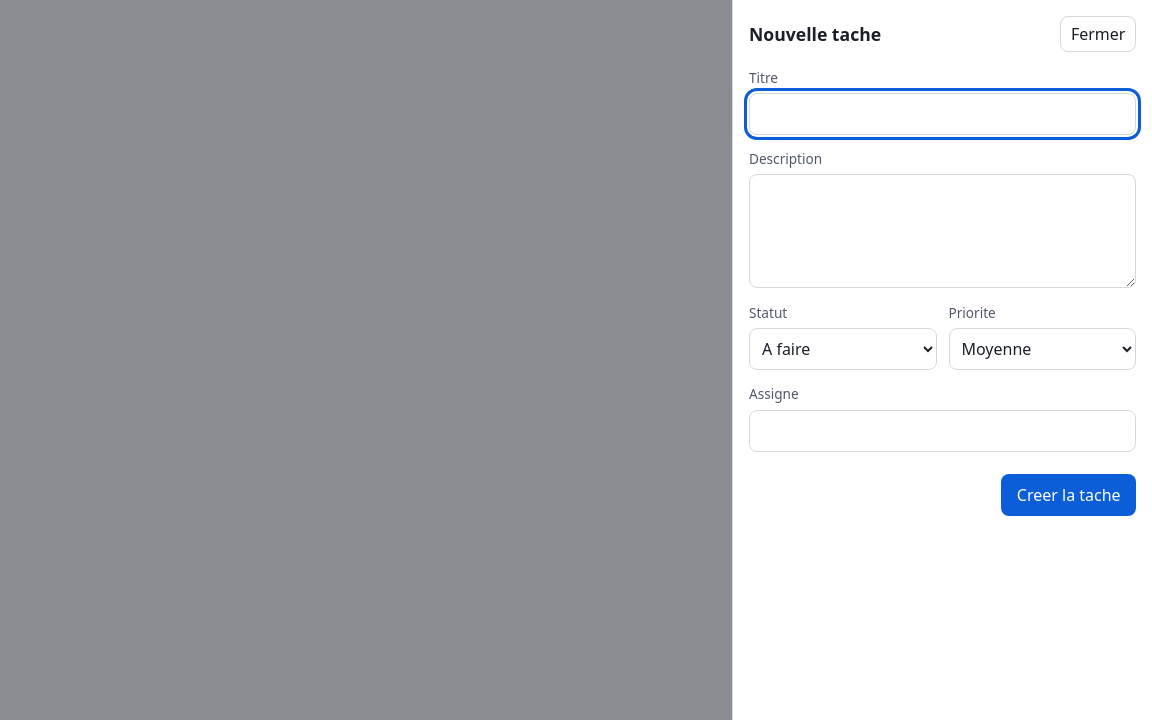
Test: TaskPanel › affiche une erreur quand le titre est vide
This screenshot has width=1152, height=720.
Click the button "Creer la tache" at (1069, 495), box [1001,474,1136,516]
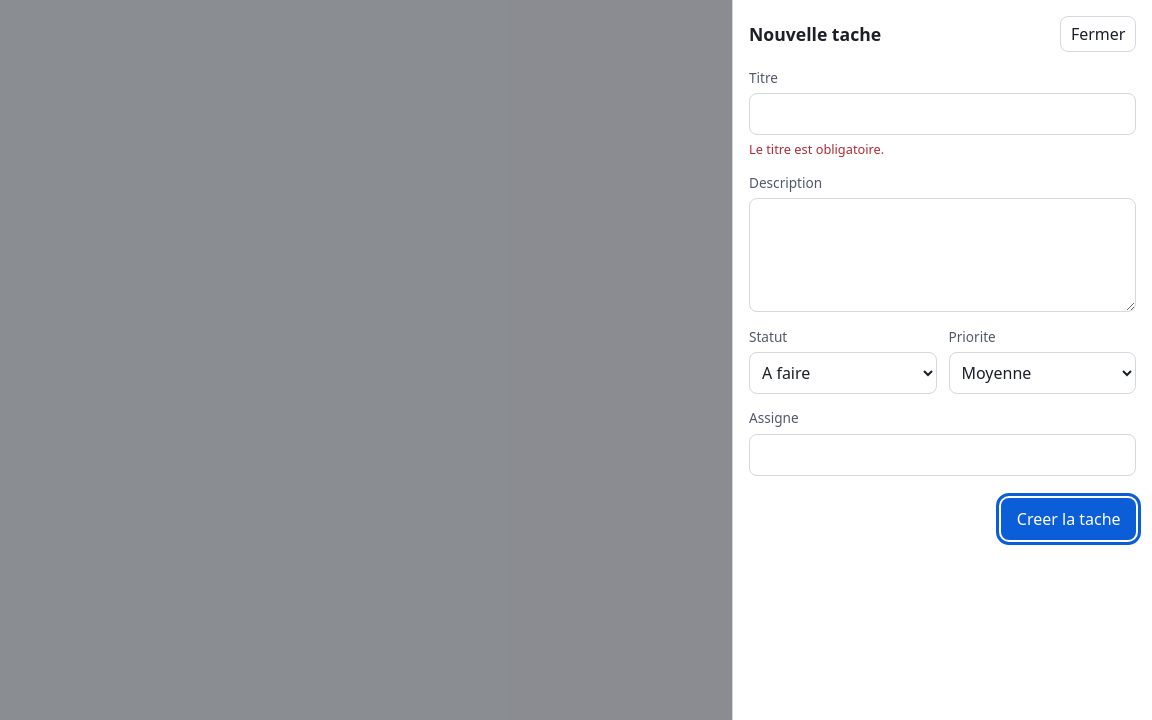
Result: the text "Le titre est obligatoire." is shown at [749,140,884,158]
